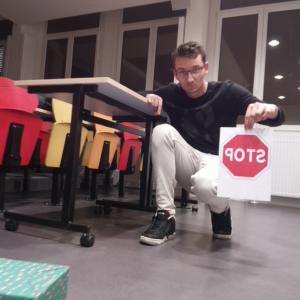stop: (221, 132, 270, 180)
